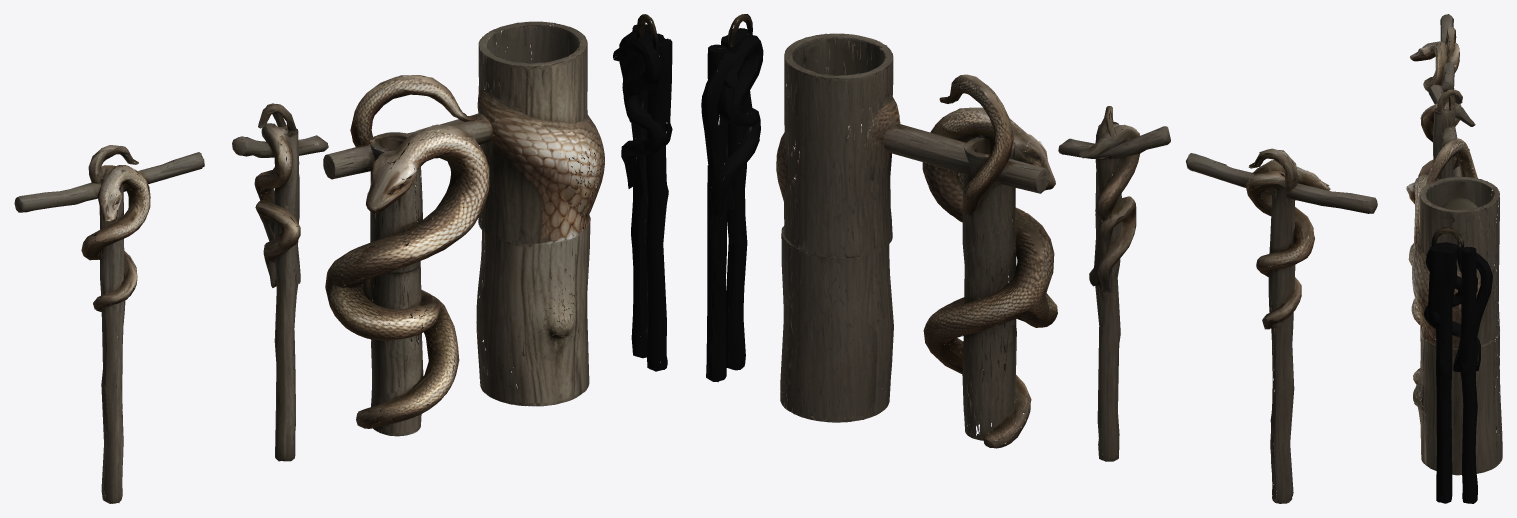
The model's file is Bronze_Serpent_VR_1K.glb.
The picture shows the model from 3 angles, left to right: view 1: azimuth 30°, elevation 25°; view 2: azimuth 150°, elevation 25°; view 3: azimuth 270°, elevation 25°; orthographic projection. The views are drawn at different scales.
Visible parts, largest first — view 1: Bronze_Serpent; view 2: Bronze_Serpent; view 3: Bronze_Serpent.
Part boxes in pixels (box(x1,y1,x2,y2)): Bronze_Serpent: box(14, 14, 672, 503); Bronze_Serpent: box(701, 14, 1377, 503); Bronze_Serpent: box(1406, 14, 1502, 503).
Bounding box in the file's own units: 1.07 × 0.5554 × 0.1795.
Materials: 1 (1 with a texture image).
